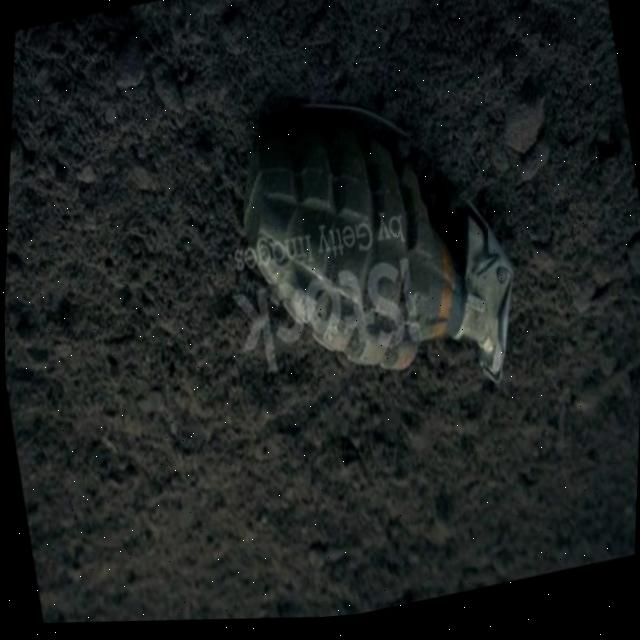grenade: (216, 72, 541, 437)
